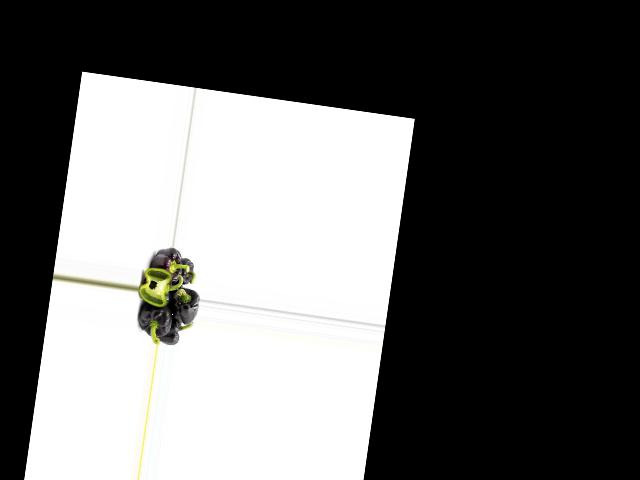bell_pepper: (149, 246, 184, 289)
